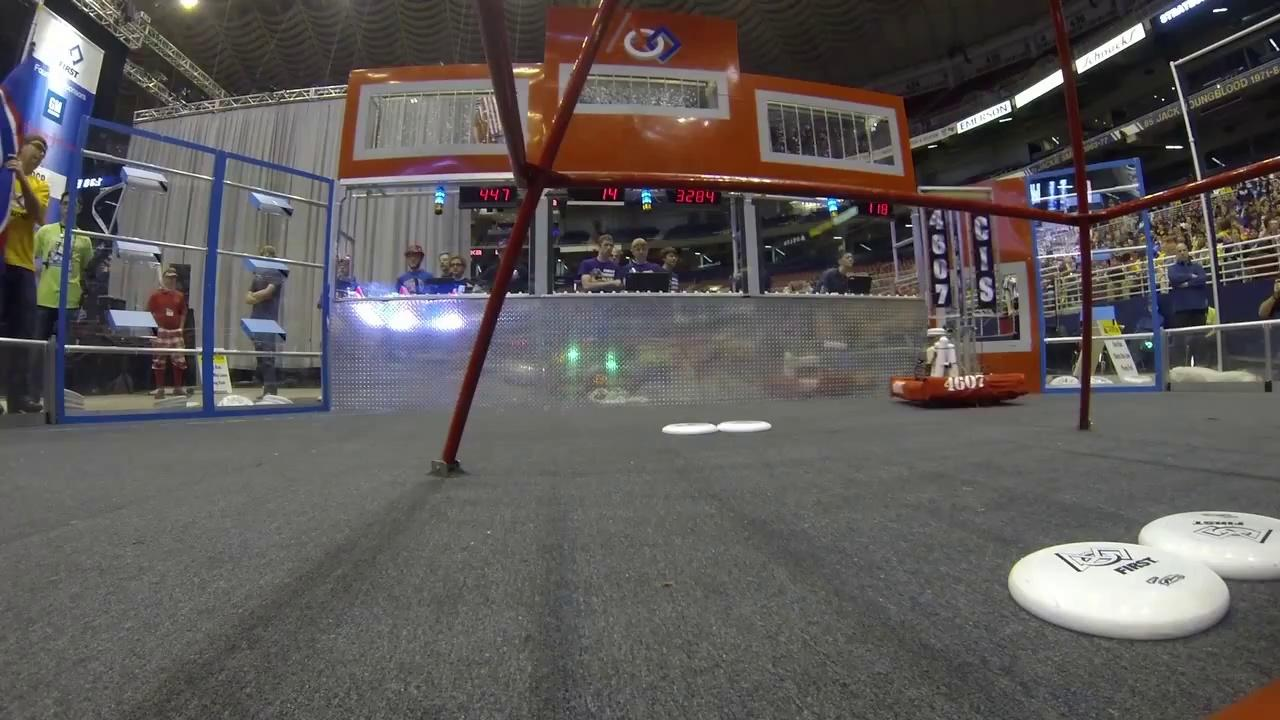robot: (888, 185, 1031, 413)
